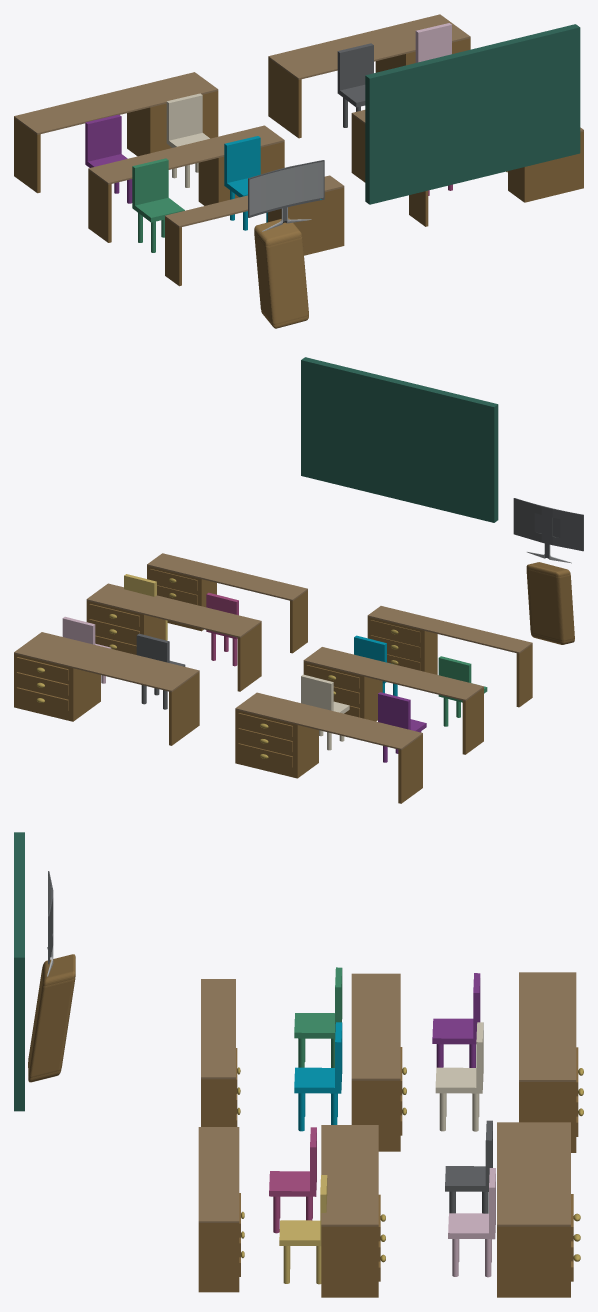
Rendered from Incredible Vihelmo.glb.
3 renders of one model, top to bottom at view 1: azimuth 30°, elevation 25°; view 2: azimuth 150°, elevation 25°; view 3: azimuth 270°, elevation 25°, orthographic. The views are drawn at different scales.
Visible parts, largest first — view 1: Mesh_Mesh_head_geo.001_lambert2SG.001; view 2: Mesh_Mesh_head_geo.001_lambert2SG.001; view 3: Mesh_Mesh_head_geo.001_lambert2SG.001.
Boxes of the visible parts, x1,y1,x2,y2 form: Mesh_Mesh_head_geo.001_lambert2SG.001: (14, 14, 583, 328); Mesh_Mesh_head_geo.001_lambert2SG.001: (14, 357, 583, 803); Mesh_Mesh_head_geo.001_lambert2SG.001: (14, 832, 583, 1297).
Bounding box in the file's own units: 0.19 × 0.101 × 0.1815.
